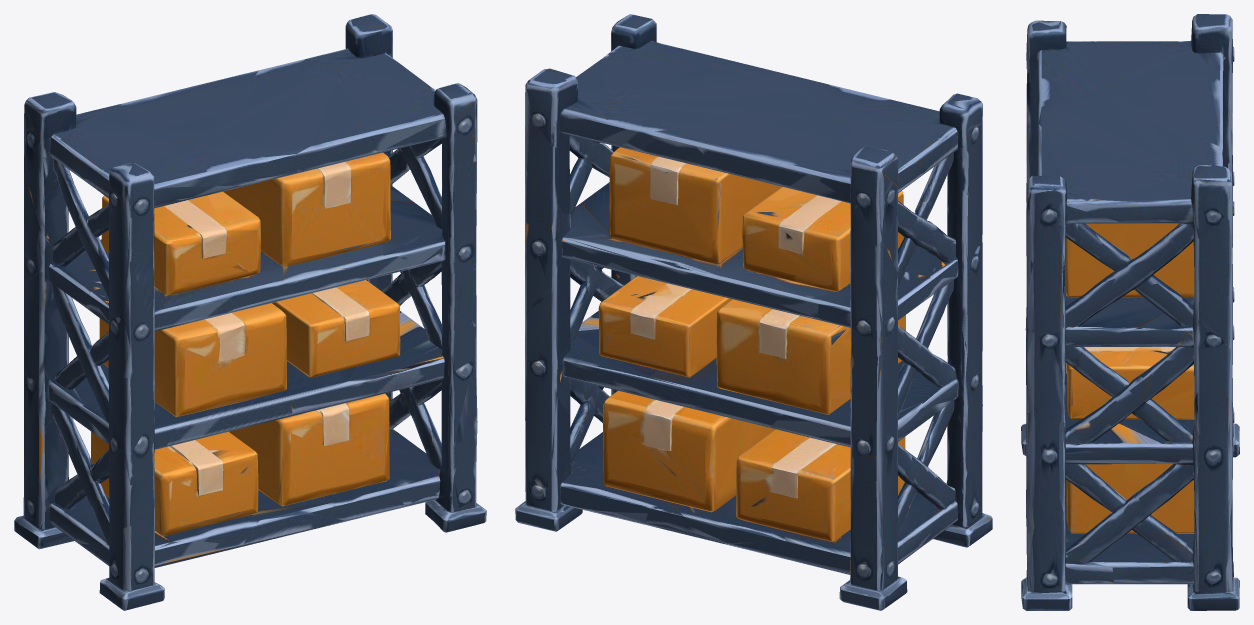
Rendered from rack.glb.
3 renders of one model, left to right at view 1: azimuth 30°, elevation 25°; view 2: azimuth 150°, elevation 25°; view 3: azimuth 270°, elevation 25°, orthographic. The views are drawn at different scales.
Parts seen in each view (by area): view 1: rack; view 2: rack; view 3: rack.
Part boxes in pixels (x1,y1,x2,y2): rack: (14, 14, 486, 610); rack: (515, 14, 992, 610); rack: (1021, 14, 1239, 610).
Bounding box in the file's own units: 0.8731 × 0.9987 × 0.4619.
1 material, 1 textured.
